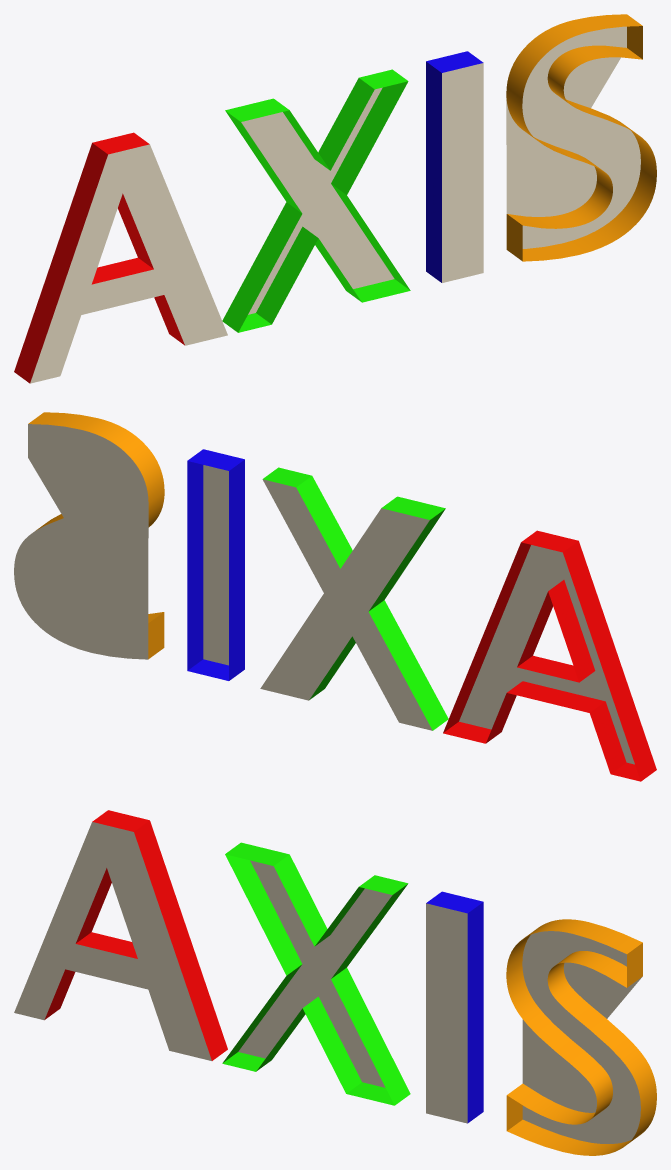
File: ExportedC4DFBXFile.fbx
The picture shows the model from 3 angles, top to bottom: view 1: azimuth 30°, elevation 25°; view 2: azimuth 150°, elevation 25°; view 3: azimuth 330°, elevation 25°; orthographic projection.
Parts seen in each view (by area): view 1: Cap_2_2, Cap_1, X, S, Cap_2, Cap_1_2, A, I; view 2: Cap_2_2, Cap_2, A, Cap_1, I, X, Cap_1_2, S; view 3: Cap_1, S, Cap_2_2, X, Cap_2, Cap_1_2, A, I.
Boxes of the visible parts, x1=… form: Cap_2_2: x1=506, y1=26, x2=640, y2=248; Cap_1: x1=30, y1=144, x2=227, y2=383; X: x1=222, y1=69, x2=410, y2=332; S: x1=506, y1=14, x2=656, y2=261; Cap_2: x1=241, y1=87, x2=394, y2=314; Cap_1_2: x1=442, y1=63, x2=483, y2=282; A: x1=14, y1=132, x2=184, y2=383; I: x1=426, y1=51, x2=483, y2=282; Cap_2_2: x1=14, y1=424, x2=148, y2=659; Cap_2: x1=260, y1=479, x2=432, y2=730; A: x1=443, y1=530, x2=656, y2=781; Cap_1: x1=459, y1=545, x2=634, y2=764; I: x1=187, y1=449, x2=244, y2=680; X: x1=263, y1=467, x2=448, y2=730; Cap_1_2: x1=203, y1=465, x2=228, y2=665; S: x1=28, y1=412, x2=164, y2=659; Cap_1: x1=14, y1=822, x2=211, y2=1060; S: x1=506, y1=919, x2=656, y2=1155; Cap_2_2: x1=522, y1=931, x2=641, y2=1143; X: x1=222, y1=842, x2=410, y2=1105; Cap_2: x1=238, y1=860, x2=392, y2=1087; Cap_1_2: x1=426, y1=903, x2=467, y2=1123; A: x1=44, y1=810, x2=227, y2=1060; I: x1=426, y1=891, x2=483, y2=1123.
Size of the model in its own units: 451 by 152 by 20.
